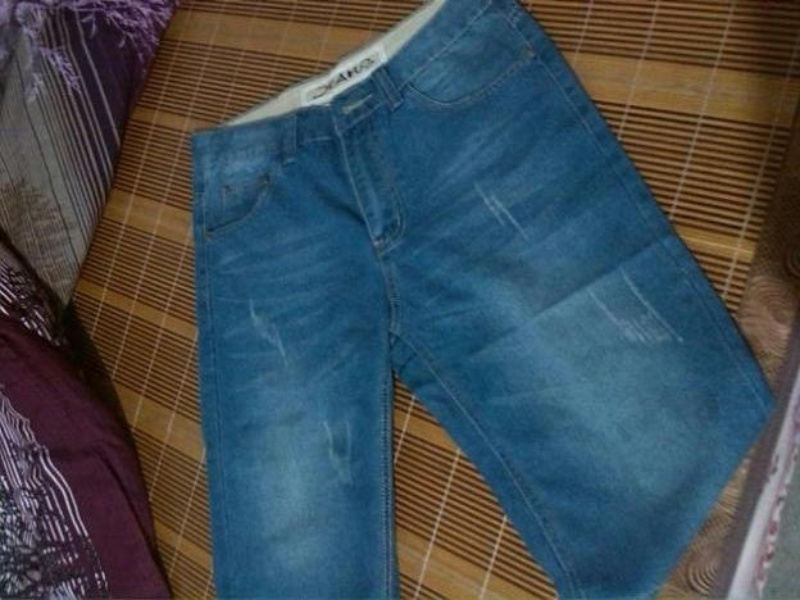shorts: (186, 4, 799, 599)
